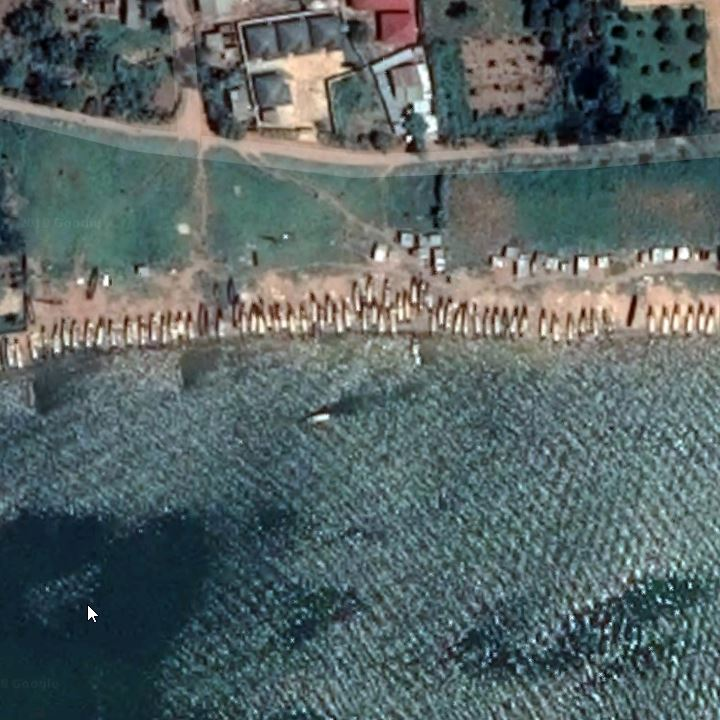boat: (307, 289, 321, 339), (209, 302, 226, 343), (518, 302, 532, 347), (85, 264, 100, 306), (563, 306, 577, 349), (301, 411, 336, 428), (27, 327, 41, 368), (460, 302, 473, 346), (331, 296, 344, 340), (69, 317, 84, 355), (576, 301, 589, 344), (105, 316, 120, 352), (296, 300, 309, 341), (625, 293, 639, 331), (401, 291, 415, 329), (12, 335, 26, 372), (197, 304, 210, 343), (645, 304, 659, 340), (286, 299, 298, 341), (37, 323, 50, 361), (183, 307, 195, 348), (386, 307, 400, 341), (123, 314, 135, 353), (539, 307, 550, 349), (230, 294, 242, 332), (62, 317, 74, 355), (392, 288, 405, 323), (695, 298, 706, 339), (3, 334, 14, 375), (549, 314, 564, 344), (175, 310, 187, 347), (147, 315, 159, 352), (350, 278, 363, 312), (342, 299, 355, 333), (453, 301, 464, 340), (364, 273, 376, 308), (408, 274, 421, 306), (265, 301, 275, 342), (671, 301, 682, 338), (435, 294, 446, 331), (326, 291, 336, 331), (51, 319, 61, 359), (429, 306, 441, 339), (358, 303, 370, 336), (256, 303, 267, 339), (167, 312, 178, 348), (84, 318, 95, 354), (240, 302, 250, 341), (159, 313, 169, 352), (590, 304, 601, 339), (225, 273, 237, 305), (136, 314, 146, 352), (96, 315, 106, 353), (471, 302, 480, 343), (704, 307, 715, 340), (382, 275, 393, 308), (684, 304, 694, 340), (377, 309, 388, 341), (445, 297, 454, 336), (491, 307, 501, 342), (482, 309, 493, 340), (511, 302, 519, 344), (501, 304, 510, 341), (660, 306, 670, 339), (371, 300, 380, 333), (279, 301, 286, 341), (274, 302, 281, 339), (251, 303, 257, 339)
